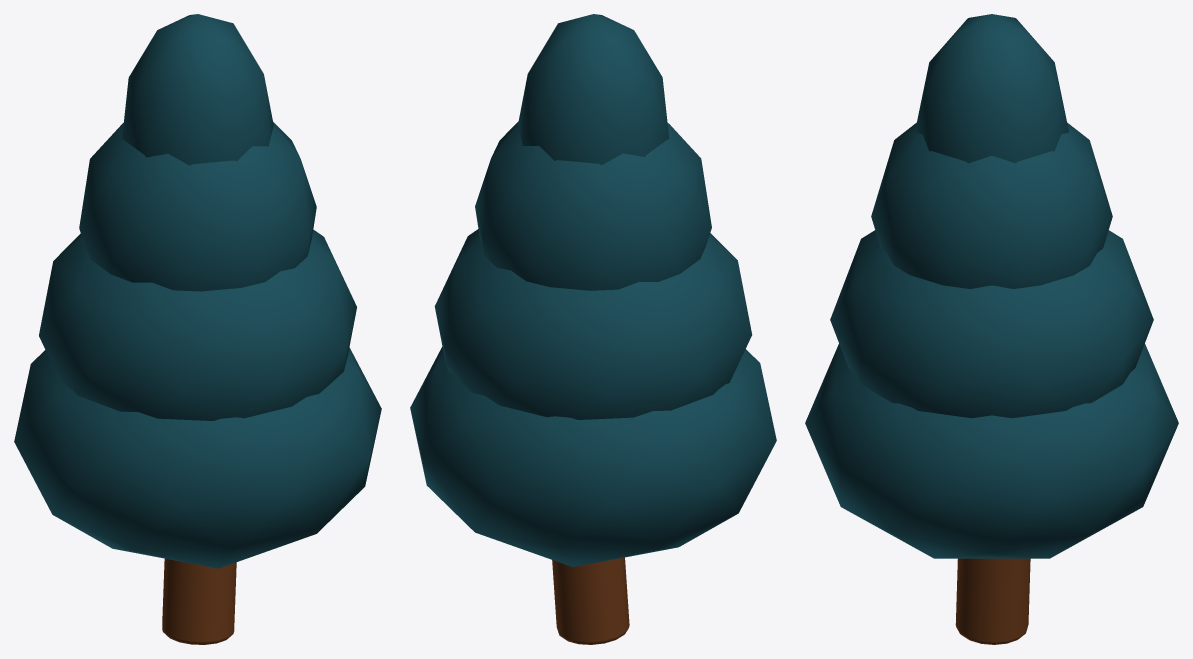
Rendered from tree_fir.glb.
The picture shows the model from 3 angles, left to right: view 1: azimuth 30°, elevation 25°; view 2: azimuth 150°, elevation 25°; view 3: azimuth 270°, elevation 25°; orthographic projection.
Visible parts, largest first — view 1: fir_soft_canopy, fir_soft_canopy.001, fir_soft_canopy.002, fir_soft_canopy.003, tree_trunk.001; view 2: fir_soft_canopy, fir_soft_canopy.001, fir_soft_canopy.002, fir_soft_canopy.003, tree_trunk.001; view 3: fir_soft_canopy, fir_soft_canopy.001, fir_soft_canopy.002, fir_soft_canopy.003, tree_trunk.001.
Boxes of the visible parts, box(x1,y1,x2,y2) form: fir_soft_canopy: box(14, 347, 381, 568); fir_soft_canopy.001: box(39, 229, 356, 420); fir_soft_canopy.002: box(79, 122, 316, 291); fir_soft_canopy.003: box(122, 14, 273, 165); tree_trunk.001: box(162, 558, 236, 644); fir_soft_canopy: box(410, 346, 776, 566); fir_soft_canopy.001: box(434, 229, 752, 419); fir_soft_canopy.002: box(475, 121, 711, 290); fir_soft_canopy.003: box(517, 14, 669, 164); tree_trunk.001: box(552, 557, 629, 644); fir_soft_canopy: box(805, 344, 1178, 558); fir_soft_canopy.001: box(830, 230, 1153, 418); fir_soft_canopy.002: box(871, 123, 1112, 288); fir_soft_canopy.003: box(915, 14, 1068, 163); tree_trunk.001: box(955, 558, 1030, 644).
Bounding box in the file's own units: 1.56 × 2.99 × 1.64.
